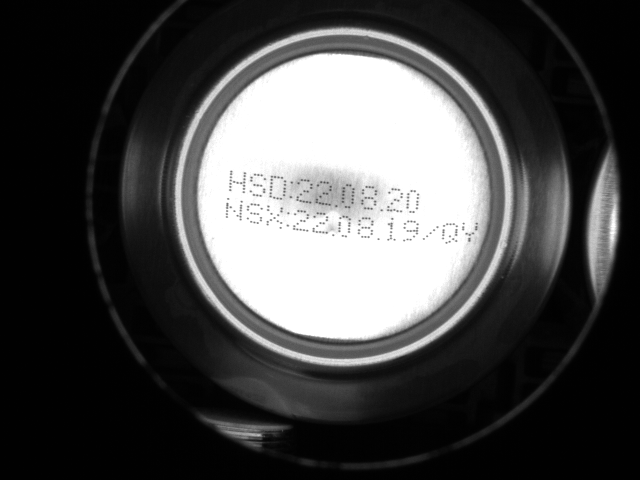/: (424, 219, 440, 239)
0: (340, 180, 358, 207), (337, 212, 355, 236), (406, 187, 421, 214)
1: (385, 216, 400, 241)
2: (316, 177, 338, 206), (289, 206, 310, 232), (294, 174, 312, 203), (385, 185, 405, 211), (312, 211, 332, 235)
8: (360, 183, 380, 210), (356, 215, 375, 242)
9: (402, 219, 420, 244)
D: (269, 173, 288, 200)
H: (227, 167, 249, 195)
N: (224, 198, 243, 223)
Q: (442, 217, 461, 243)
S: (245, 168, 268, 197), (246, 200, 264, 226)
X: (266, 205, 284, 229)
Y: (462, 218, 480, 243)
